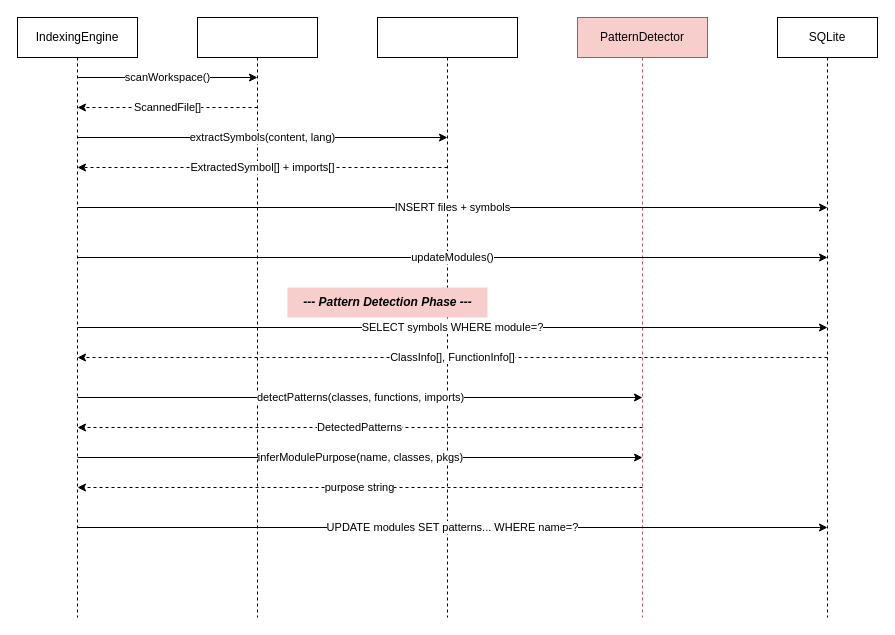
This 895x635 diagram has some shape labels left out. Each missing label, with the box of its shape:
FileScanner: (196, 16, 318, 618)
SignatureExtractor: (376, 16, 518, 618)
